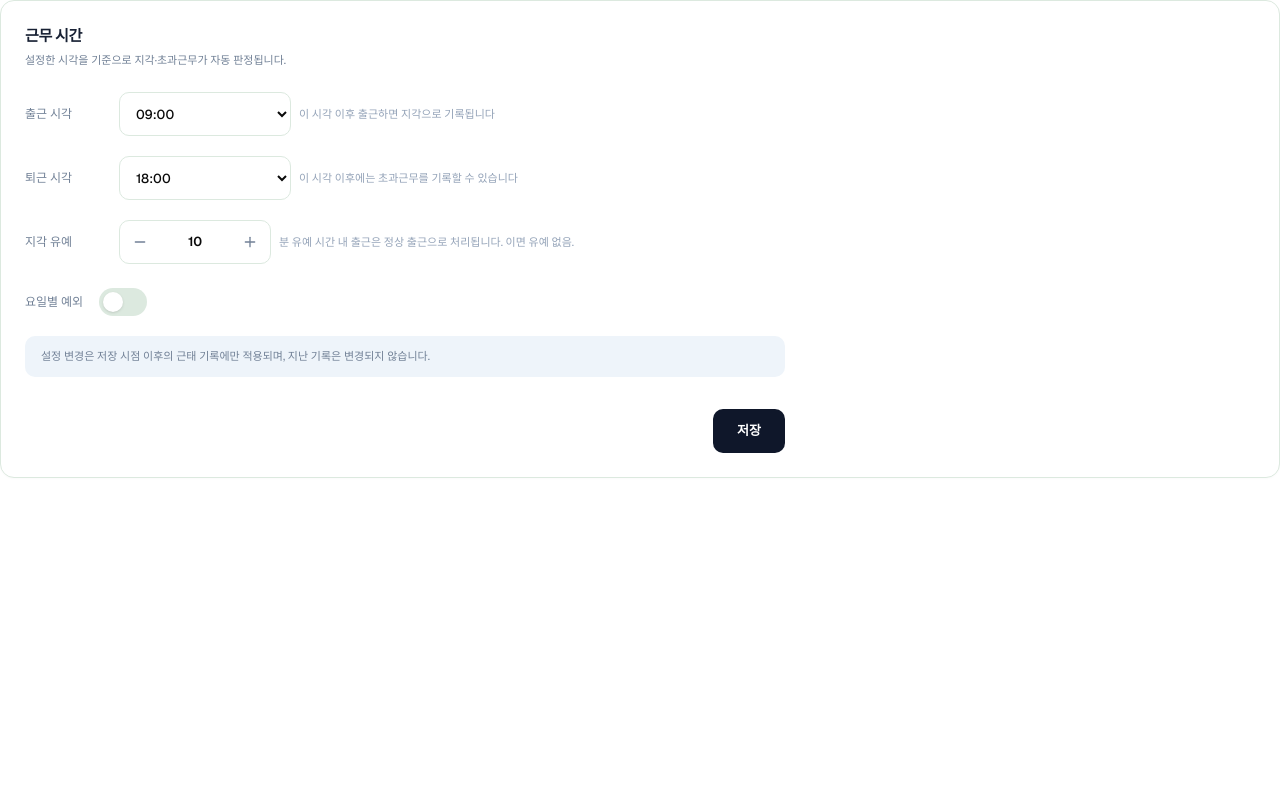
Test: SettingWorkingHours › 요일별 예외 토글을 켜면 요일 목록이 노출된다
Expected: the text "휴무" is not shown
Click the checkbox named "요일별 예외 사용": click(123, 302) [99, 288, 147, 316]
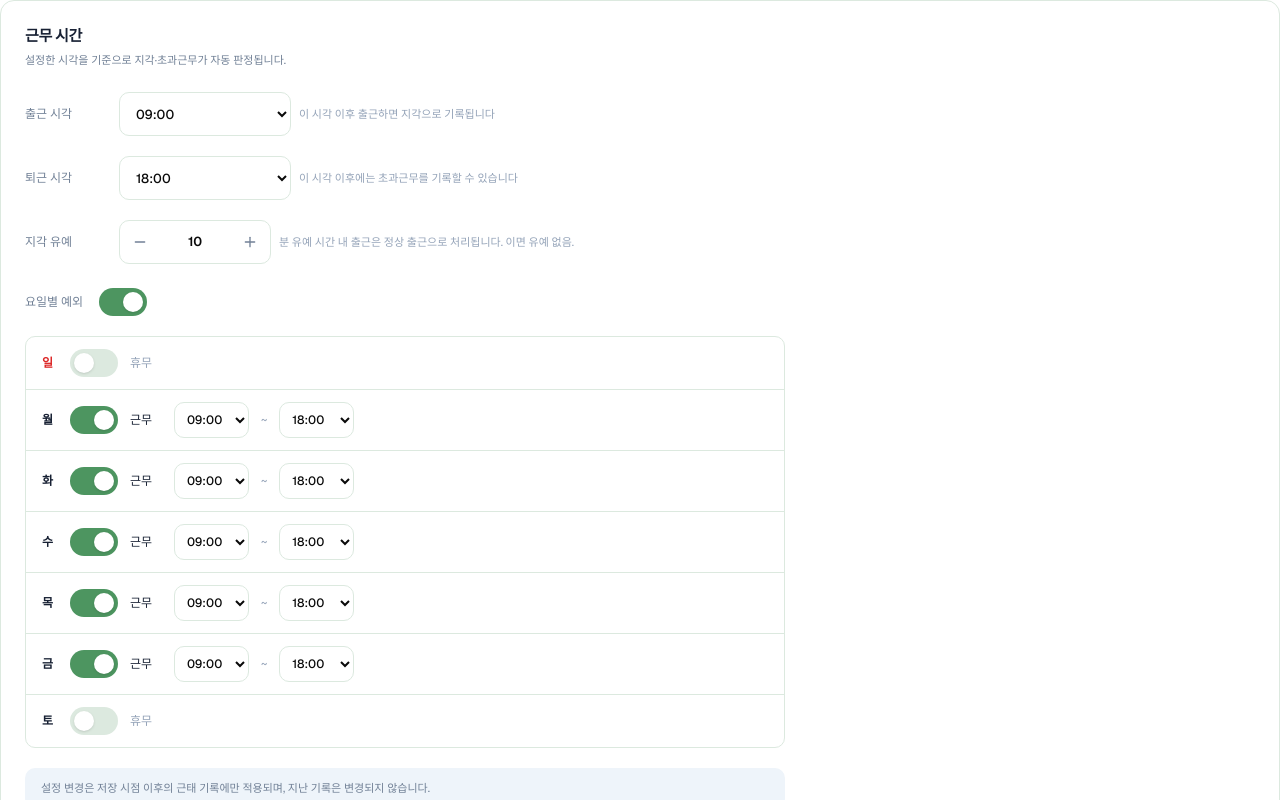
Result: the 1st text "휴무" is shown at [130, 354, 152, 372]
